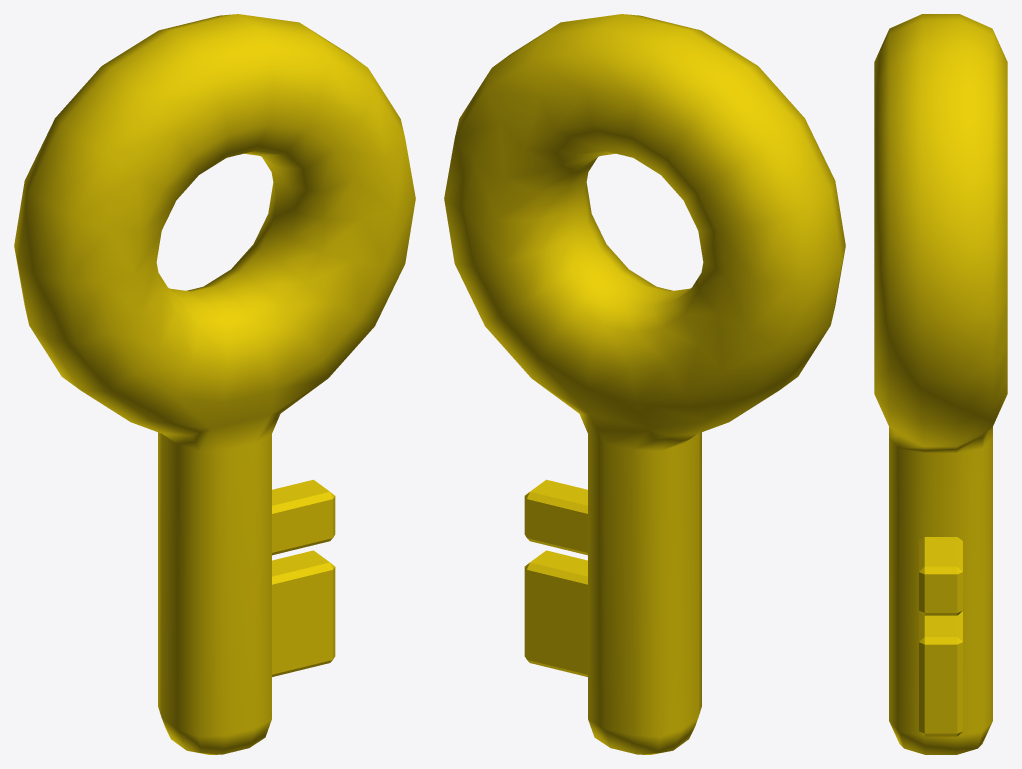
File: Key.fbx
3 renders of one model, left to right at view 1: azimuth 30°, elevation 25°; view 2: azimuth 150°, elevation 25°; view 3: azimuth 270°, elevation 25°, orthographic.
Visible parts, largest first — view 1: Key_geo; view 2: Key_geo; view 3: Key_geo.
Part boxes in pixels (bbox=[...]): Key_geo: bbox=[14, 14, 415, 754]; Key_geo: bbox=[444, 14, 845, 754]; Key_geo: bbox=[874, 14, 1007, 754].
Size of the model in its own units: 26.09 by 47.62 by 8.1.
